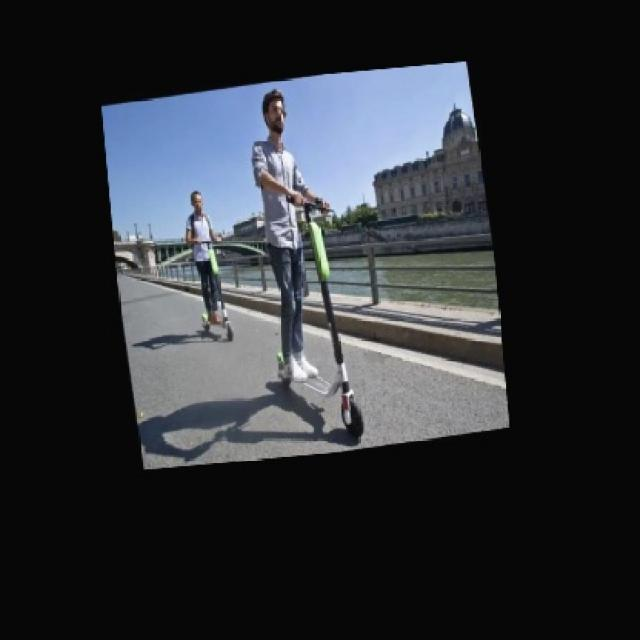bare_head: (250, 85, 311, 139)
human: (259, 89, 321, 389)
kickboard: (252, 350, 372, 446)
